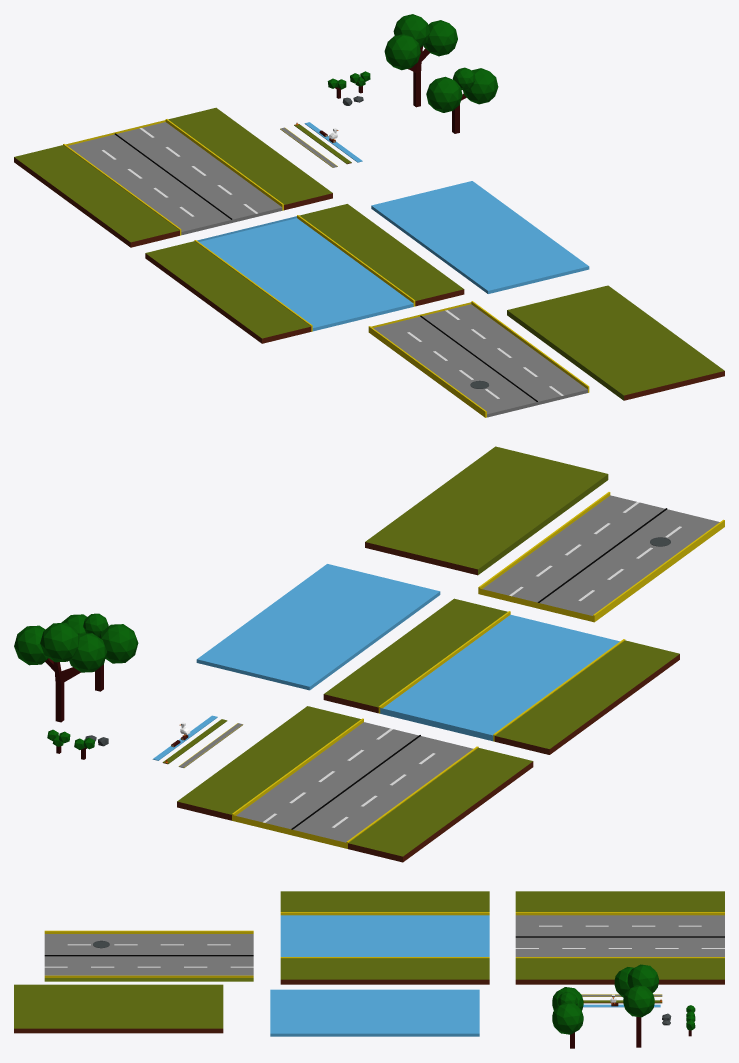
The model's file is prefabs.fbx.
The picture shows the model from 3 angles, top to bottom: view 1: azimuth 30°, elevation 25°; view 2: azimuth 150°, elevation 25°; view 3: azimuth 270°, elevation 25°; orthographic projection. The views are drawn at different scales.
Parts seen in each view (by area): view 1: Terra_Agua, Grass, Road_Dual, Grass_Dual, Water_Dual, Arvore_1, Arvore_2; view 2: Terra_Agua, Grass, Road_Dual, Grass_Dual, Water_Dual, Arvore_1, Arvore_2; view 3: Terra_Agua, Grass, Road_Dual, Grass_Dual, Water_Dual, Arvore_1, Arvore_2.
Part boxes in pixels (bbox=[...]): Terra_Agua: bbox=[145, 204, 464, 343]; Grass: bbox=[14, 107, 332, 247]; Road_Dual: bbox=[368, 301, 589, 417]; Grass_Dual: bbox=[507, 285, 724, 400]; Water_Dual: bbox=[371, 181, 589, 293]; Arvore_1: bbox=[384, 14, 457, 107]; Arvore_2: bbox=[426, 67, 498, 133]; Terra_Agua: bbox=[323, 598, 679, 754]; Grass: bbox=[177, 706, 533, 862]; Road_Dual: bbox=[478, 492, 724, 622]; Grass_Dual: bbox=[365, 446, 608, 575]; Water_Dual: bbox=[196, 564, 440, 690]; Arvore_1: bbox=[14, 622, 106, 722]; Arvore_2: bbox=[61, 613, 138, 691]; Terra_Agua: bbox=[280, 891, 489, 984]; Grass: bbox=[515, 891, 724, 984]; Road_Dual: bbox=[44, 930, 253, 981]; Grass_Dual: bbox=[14, 984, 223, 1033]; Water_Dual: bbox=[270, 989, 479, 1036]; Arvore_1: bbox=[614, 964, 658, 1047]; Arvore_2: bbox=[552, 987, 583, 1048].
Size of the model in its own units: 7798 by 1780 by 13595.
